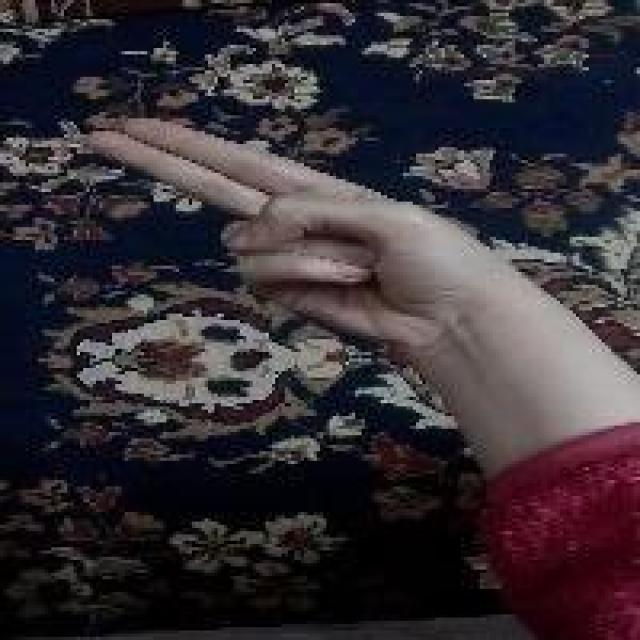H: (82, 112, 475, 349)
